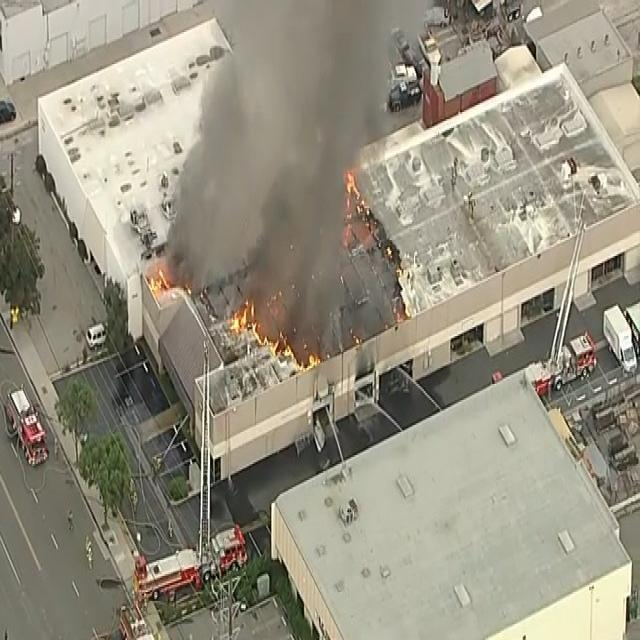Fire: (232, 288, 328, 370), (144, 262, 174, 291)
Smoke: (221, 0, 390, 341), (184, 126, 246, 280)
